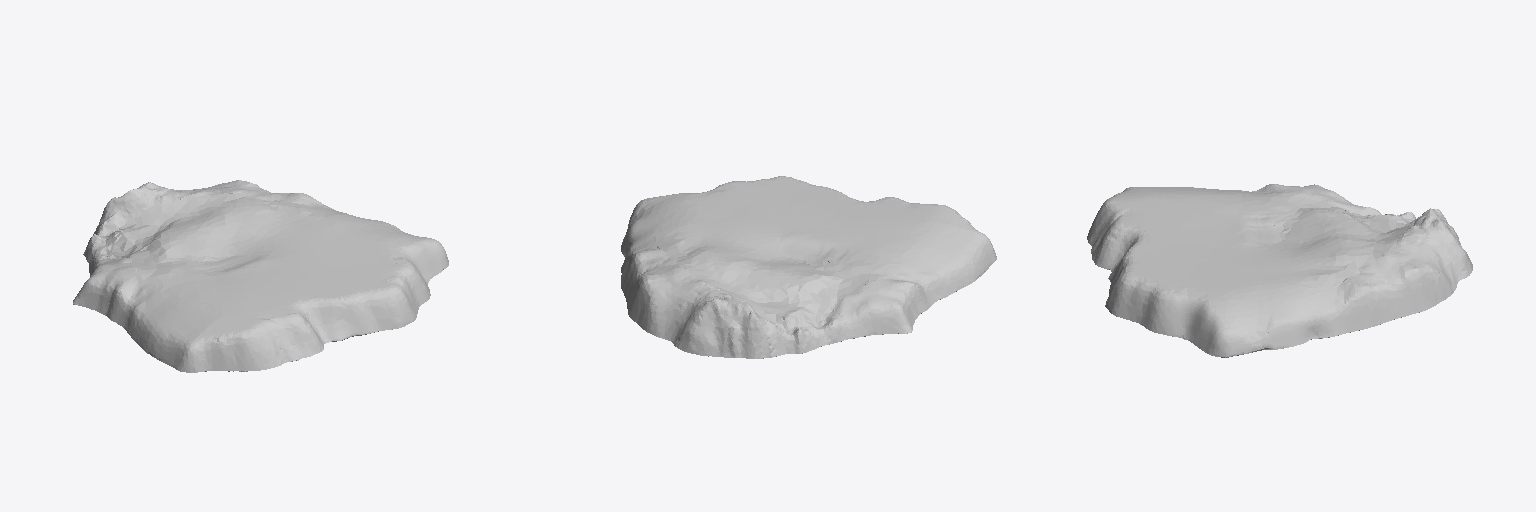
File: TerrenoF.obj
3 views of the same model, side by side, from view 1: azimuth 30°, elevation 25°; view 2: azimuth 150°, elevation 25°; view 3: azimuth 270°, elevation 25° (orthographic).
Visible parts, largest first — view 1: Main_Ground.001; view 2: Main_Ground.001; view 3: Main_Ground.001.
Part boxes in pixels (bbox=[...]): Main_Ground.001: bbox=[73, 180, 448, 372]; Main_Ground.001: bbox=[621, 176, 996, 358]; Main_Ground.001: bbox=[1087, 184, 1472, 357].
Bounding box in the file's own units: 8.31 × 1.12 × 8.5.